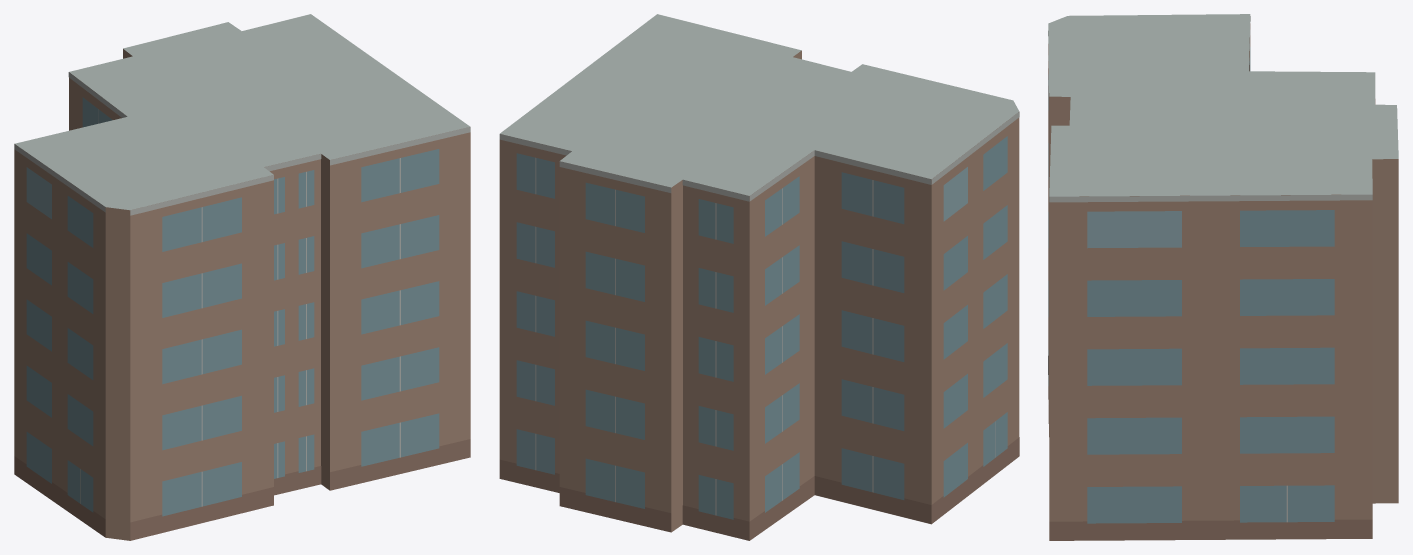
The model's file is survey-upis-33035563.glb.
3 renders of one model, left to right at view 1: azimuth 30°, elevation 25°; view 2: azimuth 150°, elevation 25°; view 3: azimuth 270°, elevation 25°, orthographic. The views are drawn at different scales.
Visible parts, largest first — view 1: survey-upis-33035563.tmp; view 2: survey-upis-33035563.tmp; view 3: survey-upis-33035563.tmp.
Part boxes in pixels (x1,y1,x2,y2): survey-upis-33035563.tmp: (14, 14, 470, 540); survey-upis-33035563.tmp: (499, 14, 1019, 540); survey-upis-33035563.tmp: (1048, 14, 1398, 540).
Size of the model in its own units: 16.62 by 14.6 by 13.49.
